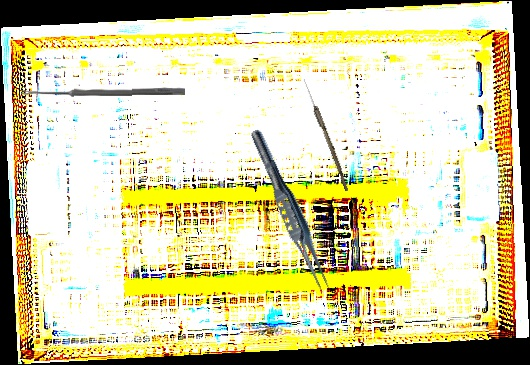Surgical Spoon: (300, 78, 352, 192), (20, 86, 186, 98)
Tissue Forceps: (242, 126, 339, 297)
